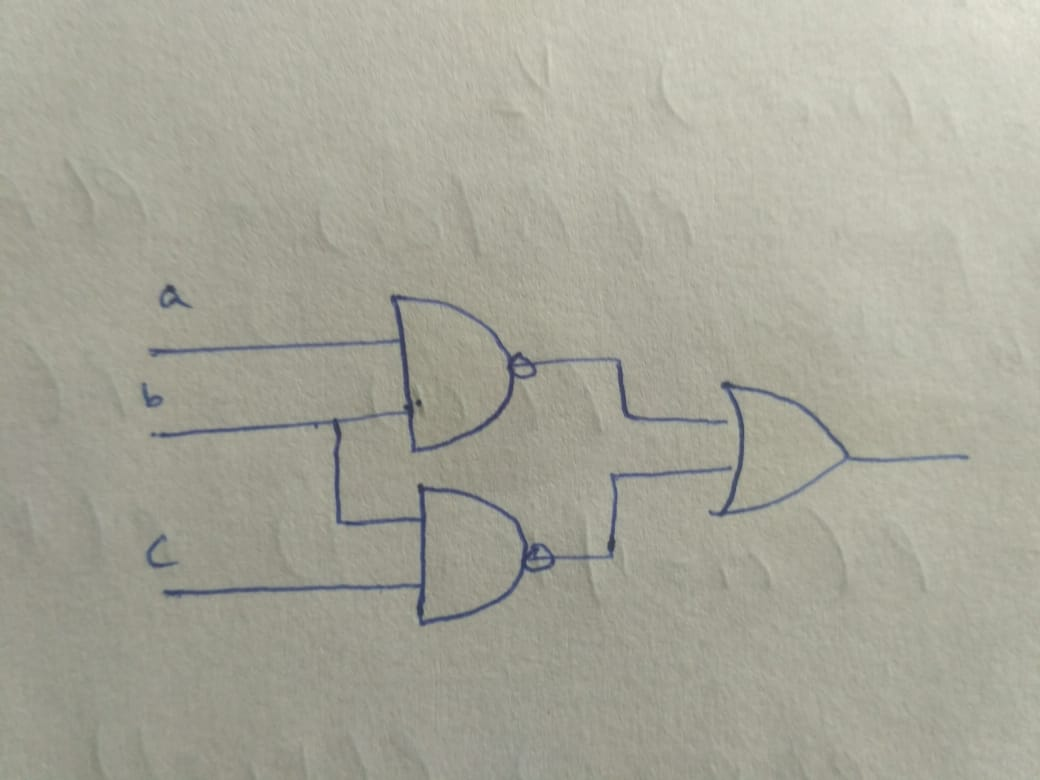nand: (365, 276, 545, 469), (397, 473, 582, 633)
or: (686, 361, 867, 526)
